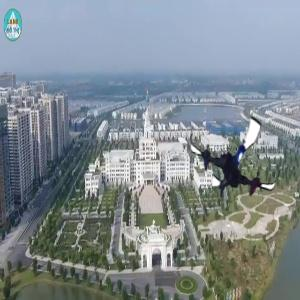drone: (185, 106, 287, 208)
